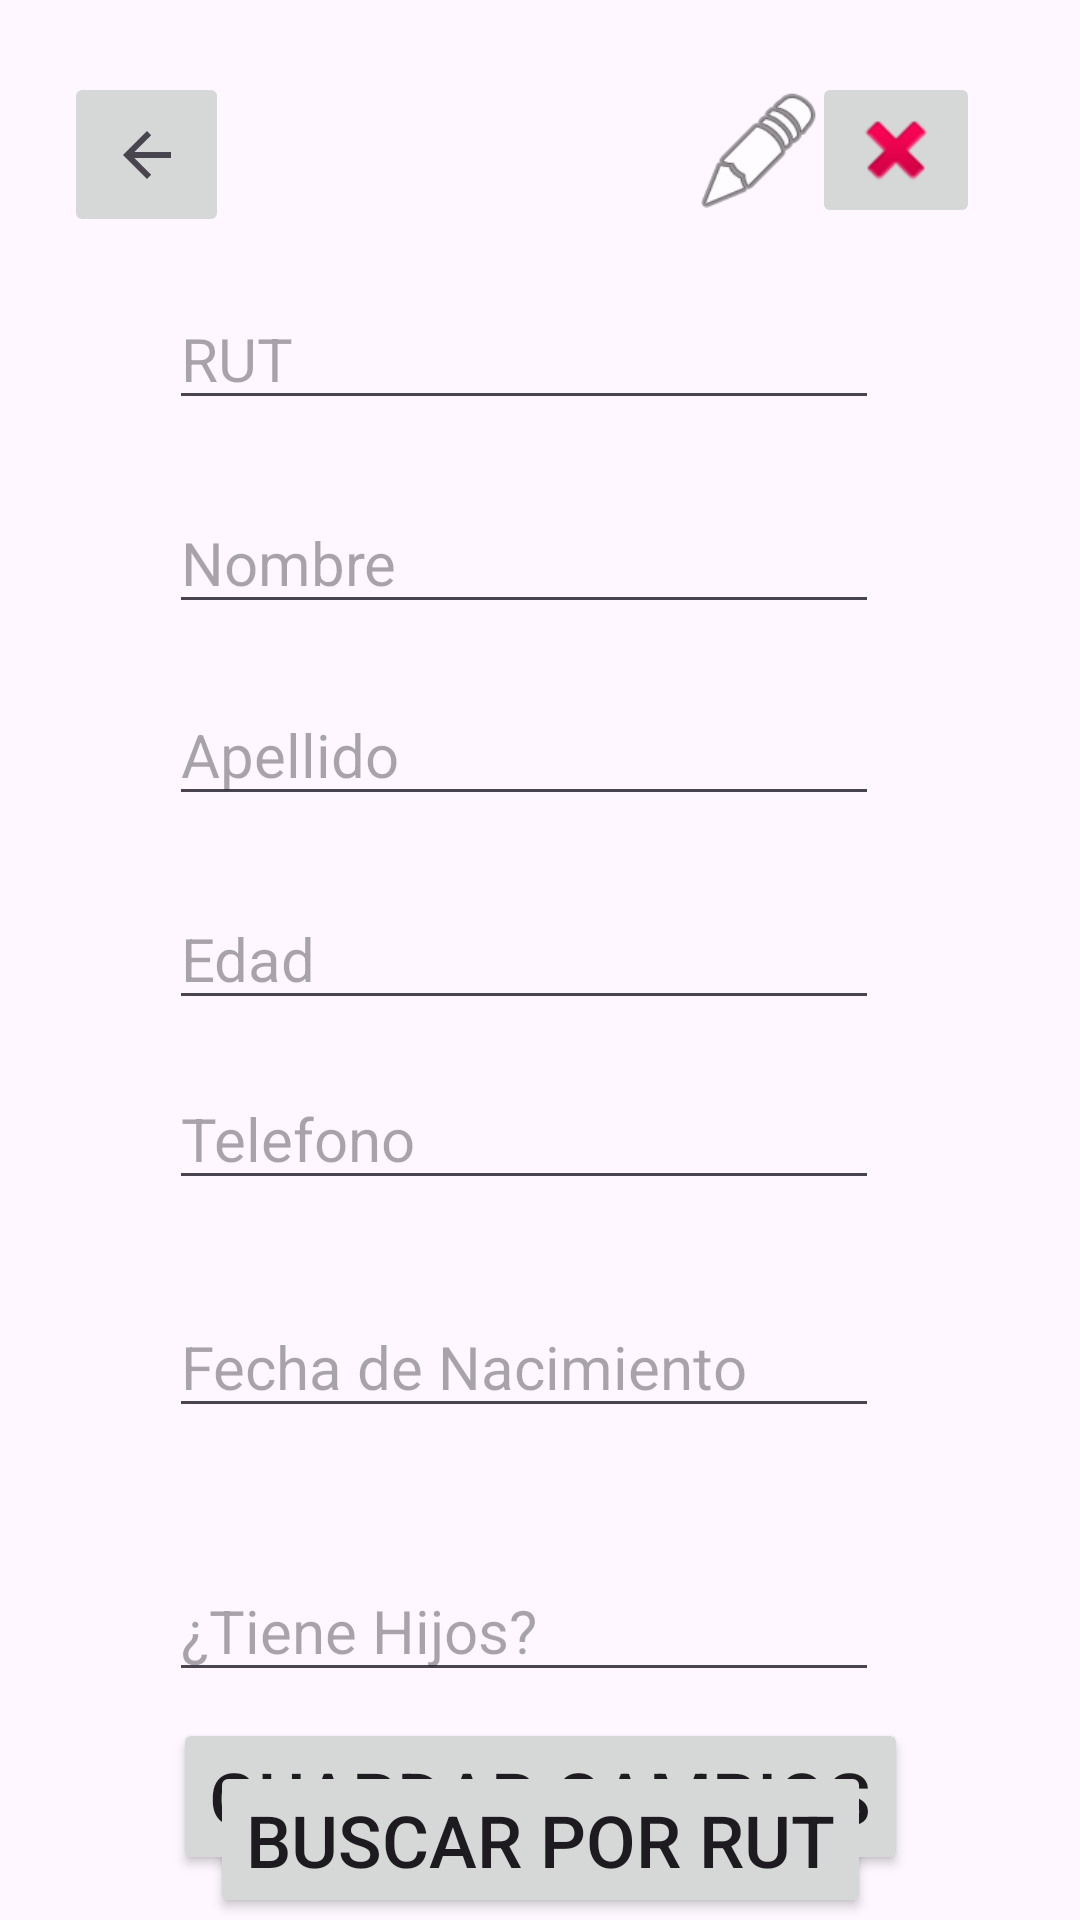

Screen size 1080w x 1920h. Icon name, then its box in pixels as (x1, y1, x2, y2):
delete: (824, 90, 968, 210)
edit: (701, 93, 816, 208)
